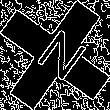N_SW: (24, 23, 86, 87)
